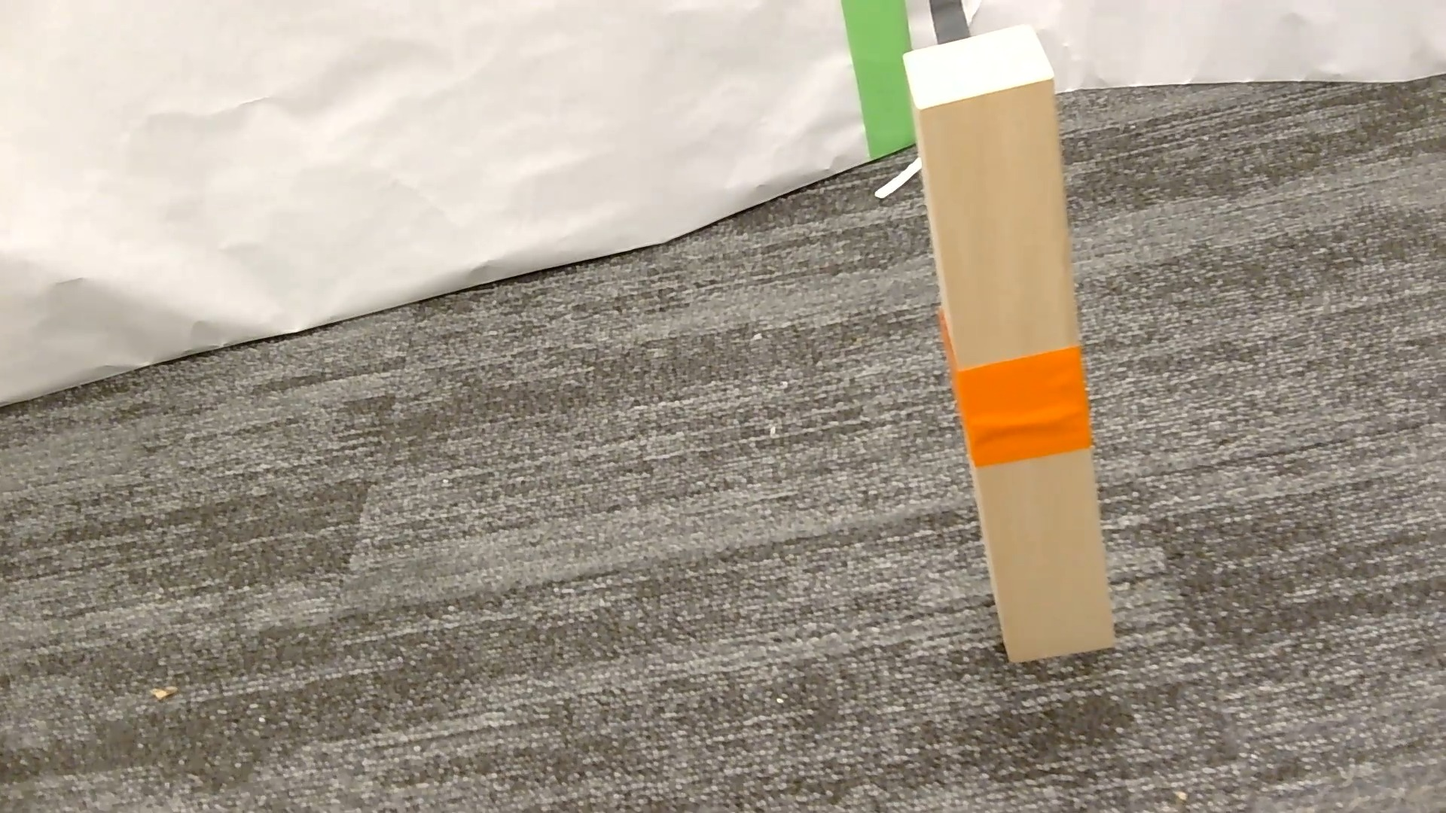Wooden Block: (904, 26, 1115, 661)
